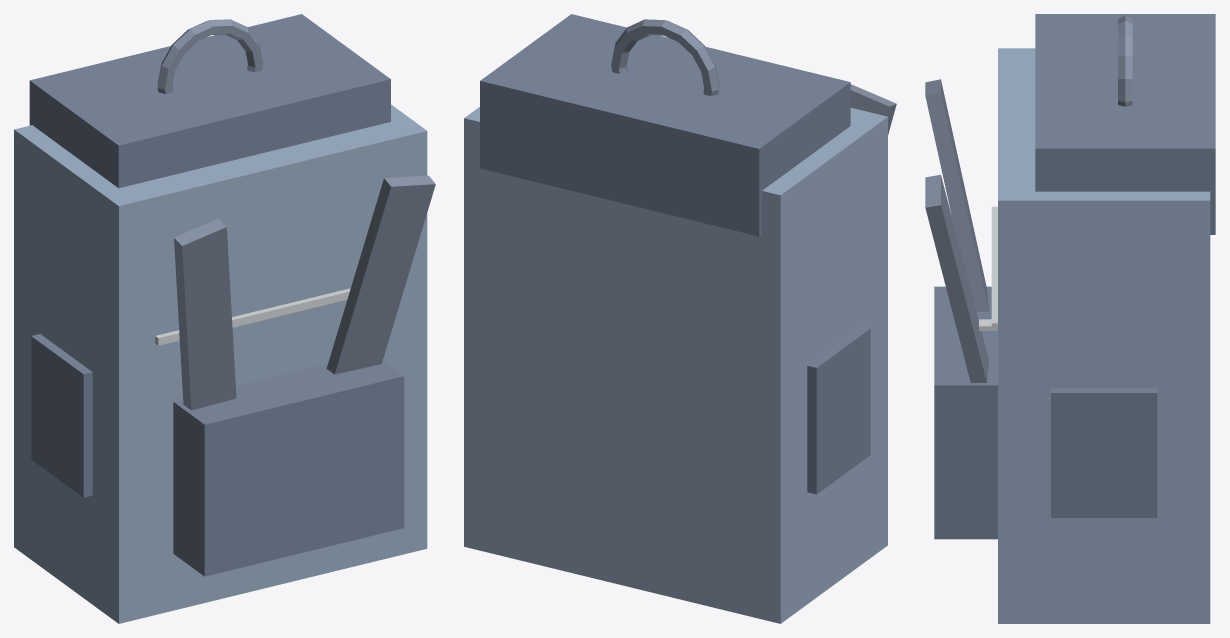
The model's file is container_backpack.glb.
3 views of the same model, side by side, from view 1: azimuth 30°, elevation 25°; view 2: azimuth 150°, elevation 25°; view 3: azimuth 270°, elevation 25° (orthographic). The views are drawn at different scales.
Visible parts, largest first — view 1: Cbp_Body, Cbp_Pocket, Cbp_Lid, Cbp_Strap1, Cbp_Strap-1, Cbp_Side-1, Cbp_Hoop, Cbp_Zip; view 2: Cbp_Body, Cbp_Lid, Cbp_Side-1, Cbp_Hoop, Cbp_Strap-1; view 3: Cbp_Body, Cbp_Lid, Cbp_Side1, Cbp_Pocket, Cbp_Strap1, Cbp_Strap-1, Cbp_Hoop, Cbp_Zip.
Boxes of the visible parts, left/top/right/bottom form: Cbp_Body: left=14, top=104, right=427, bottom=623; Cbp_Pocket: left=173, top=360, right=404, bottom=576; Cbp_Lid: left=29, top=14, right=390, bottom=188; Cbp_Strap1: left=326, top=175, right=435, bottom=374; Cbp_Strap-1: left=174, top=218, right=236, bottom=410; Cbp_Side-1: left=31, top=334, right=92, bottom=497; Cbp_Hoop: left=157, top=19, right=262, bottom=93; Cbp_Zip: left=155, top=288, right=350, bottom=345; Cbp_Body: left=464, top=107, right=887, bottom=623; Cbp_Lid: left=480, top=14, right=850, bottom=236; Cbp_Side-1: left=807, top=326, right=870, bottom=494; Cbp_Hoop: left=611, top=19, right=719, bottom=95; Cbp_Strap-1: left=850, top=84, right=896, bottom=134; Cbp_Body: left=998, top=48, right=1210, bottom=623; Cbp_Lid: left=1035, top=14, right=1215, bottom=234; Cbp_Side1: left=1051, top=388, right=1157, bottom=517; Cbp_Pocket: left=934, top=286, right=997, bottom=539; Cbp_Strap1: left=925, top=174, right=988, bottom=382; Cbp_Strap-1: left=925, top=79, right=988, bottom=311; Cbp_Hoop: left=1118, top=15, right=1132, bottom=106; Cbp_Zip: left=991, top=206, right=997, bottom=330.
Bounding box in the file's own units: 0.36 × 0.548 × 0.2735.
